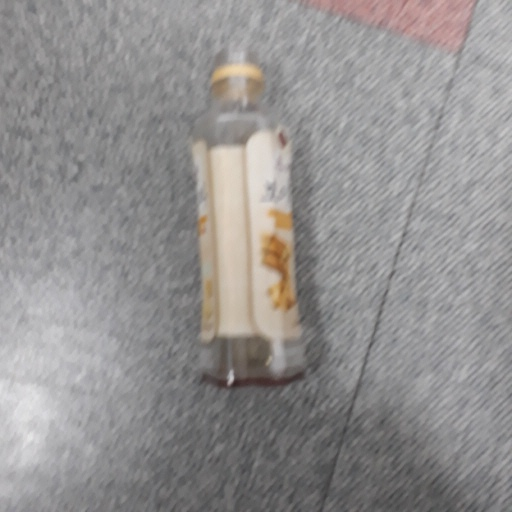Plastic_0: (188, 46, 312, 384)
